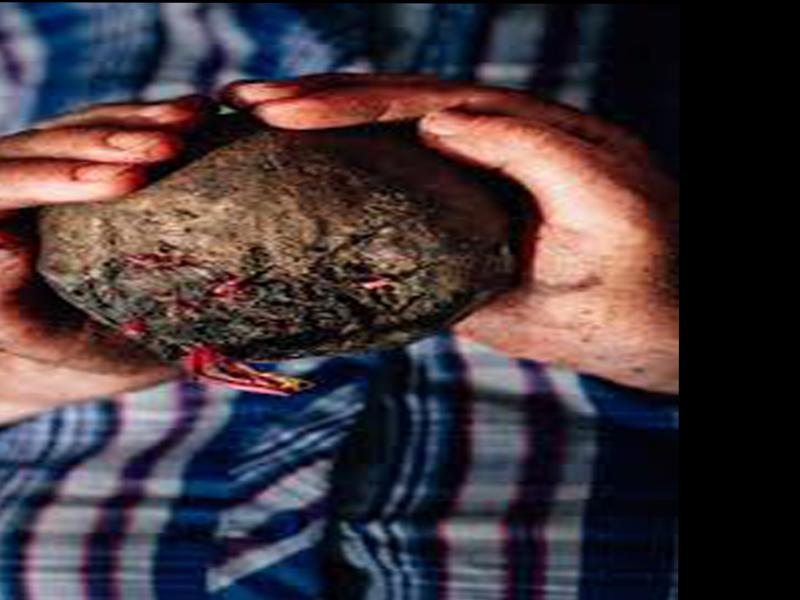Beet: (36, 124, 522, 398)
